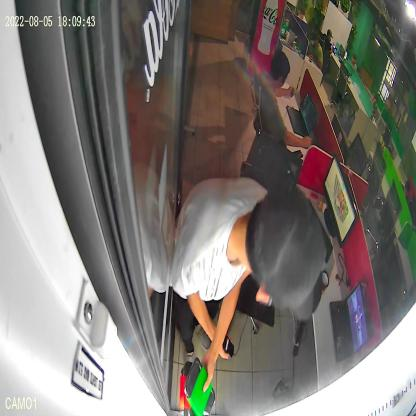green: (184, 357, 215, 416)
red: (179, 362, 195, 416)
